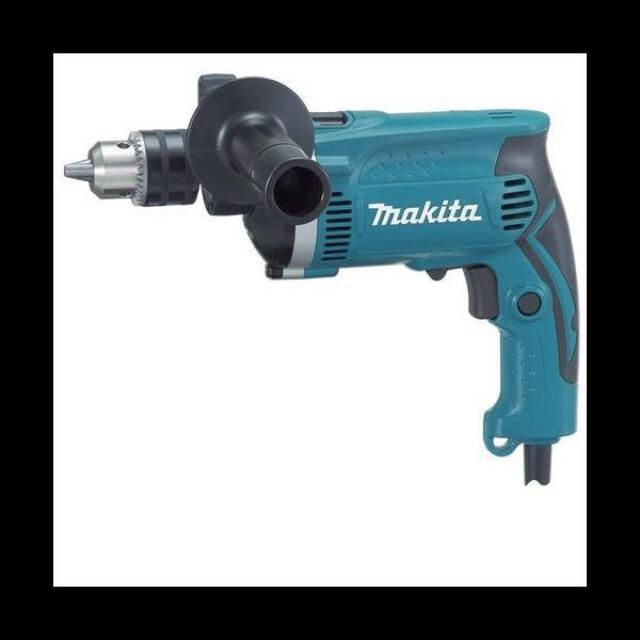drill: (62, 73, 581, 489)
